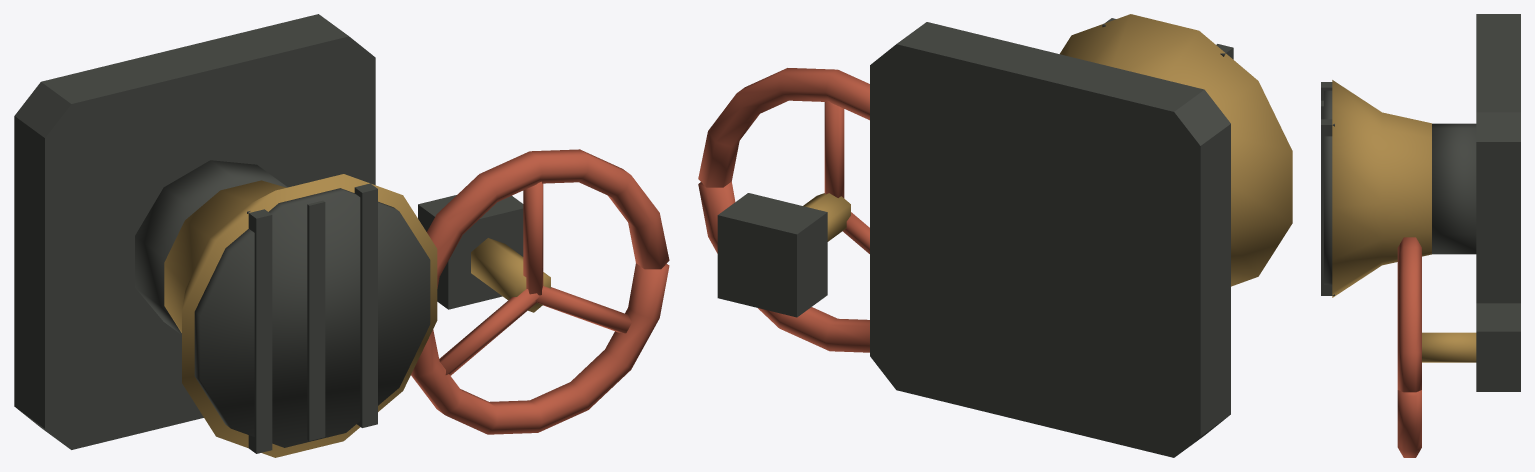
File: steam_vent.glb
The picture shows the model from 3 angles, left to right: view 1: azimuth 30°, elevation 25°; view 2: azimuth 150°, elevation 25°; view 3: azimuth 270°, elevation 25°; orthographic projection. The views are drawn at different scales.
Parts seen in each view (by area): view 1: steam_vent; view 2: steam_vent; view 3: steam_vent.
Part boxes in pixels (x1=…): steam_vent: x1=14, y1=14, x2=669, y2=457; steam_vent: x1=698, y1=14, x2=1292, y2=457; steam_vent: x1=1321, y1=14, x2=1520, y2=457.
Bounding box in the file's own units: 0.8687 × 0.5691 × 0.36.
